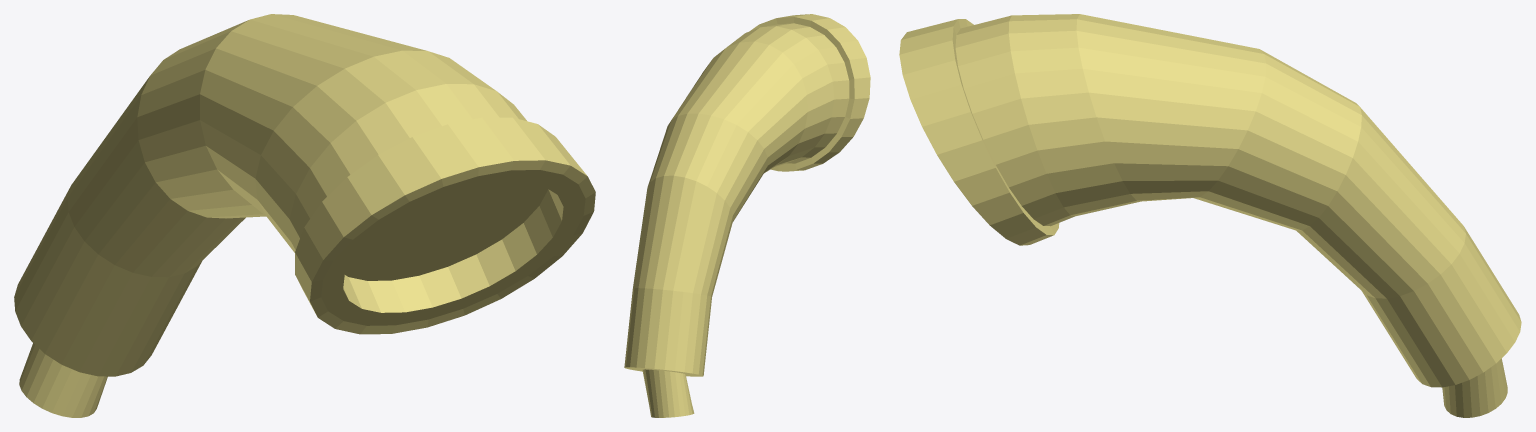
File: hose.fbx
3 views of the same model, side by side, from view 1: azimuth 30°, elevation 25°; view 2: azimuth 150°, elevation 25°; view 3: azimuth 270°, elevation 25° (orthographic). The views are drawn at different scales.
Parts seen in each view (by area): view 1: Cylinder.001; view 2: Cylinder.001; view 3: Cylinder.001.
Part boxes in pixels (x1=…): Cylinder.001: x1=14, y1=14, x2=595, y2=417; Cylinder.001: x1=624, y1=14, x2=870, y2=417; Cylinder.001: x1=899, y1=14, x2=1521, y2=417.
Size of the model in its own units: 6.22 by 11.62 by 15.87.
